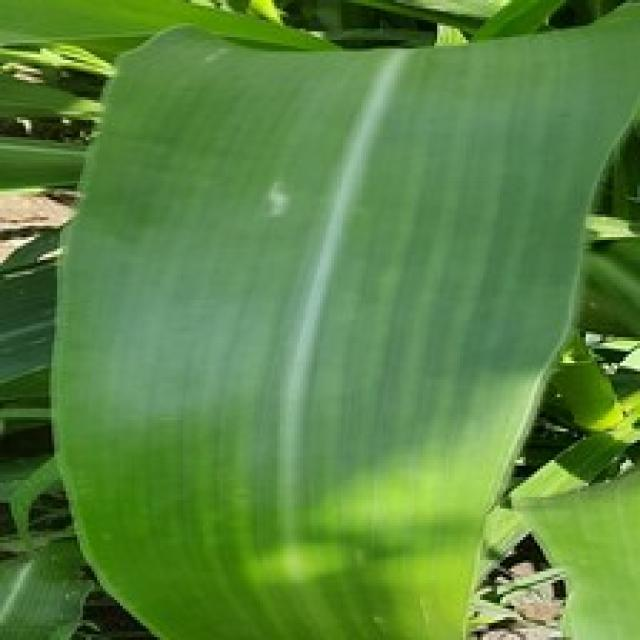Corn: (46, 0, 637, 637), (509, 449, 637, 637), (0, 0, 340, 60)
